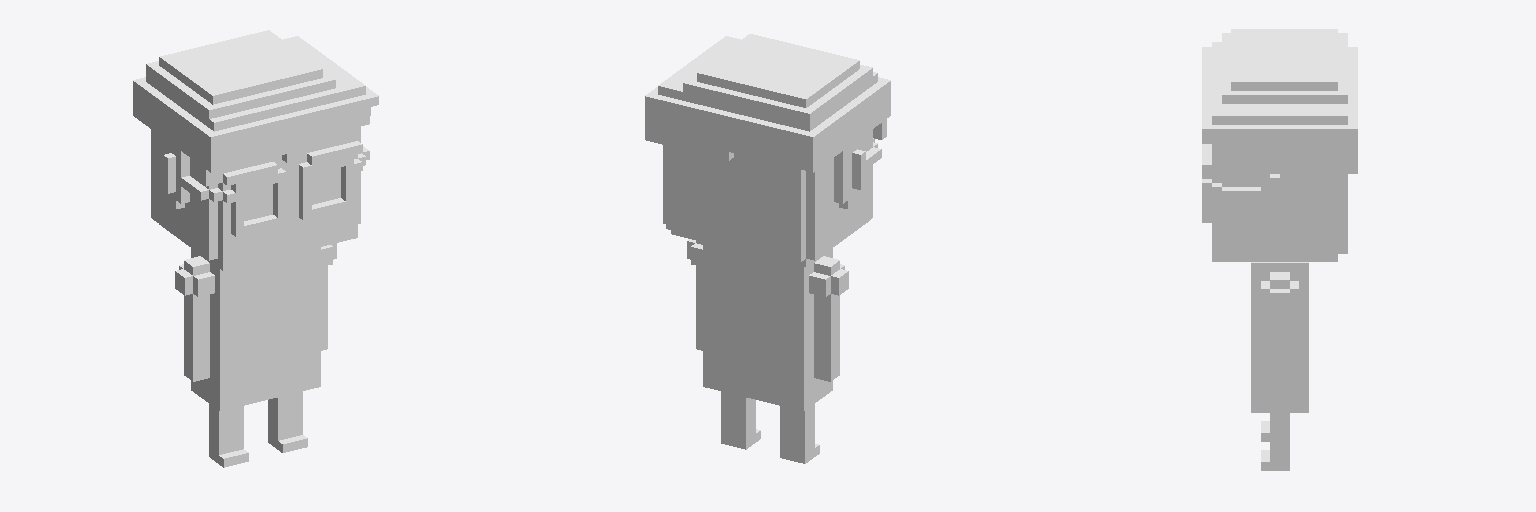
The model's file is idle.obj.
The picture shows the model from 3 angles: view 1: azimuth 30°, elevation 25°; view 2: azimuth 150°, elevation 25°; view 3: azimuth 270°, elevation 25°; orthographic projection.
Visible parts, largest first — view 1: character; view 2: character; view 3: character.
Boxes of the visible parts, x1,y1,x2,y2 form: character: [133, 30, 378, 467]; character: [645, 34, 890, 463]; character: [1202, 29, 1357, 470].
Size of the model in its own units: 2.2 by 4.4 by 1.6.